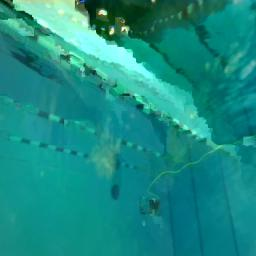front: (139, 197, 163, 215)
